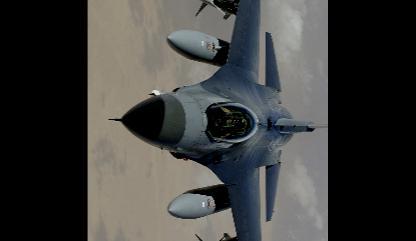F14: (107, 0, 329, 239)
